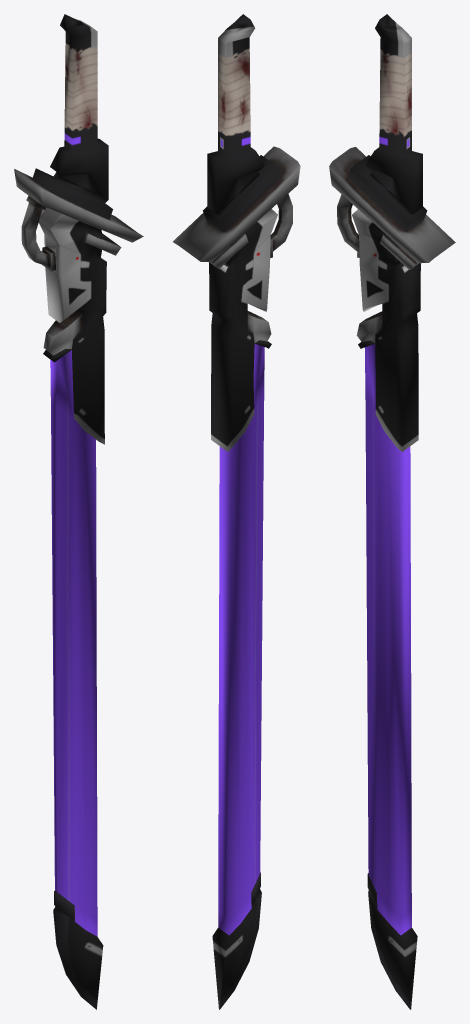
File: Sword.obj
3 renders of one model, left to right at view 1: azimuth 30°, elevation 25°; view 2: azimuth 210°, elevation 25°; view 3: azimuth 330°, elevation 25°, orthographic.
Visible parts, largest first — view 1: Espada; view 2: Espada; view 3: Espada.
Part boxes in pixels (x1=…): Espada: x1=14, y1=14, x2=143, y2=1009; Espada: x1=172, y1=14, x2=300, y2=1009; Espada: x1=329, y1=14, x2=455, y2=1009.
Bounding box in the file's own units: 0.1298 × 1.18 × 0.0597.
